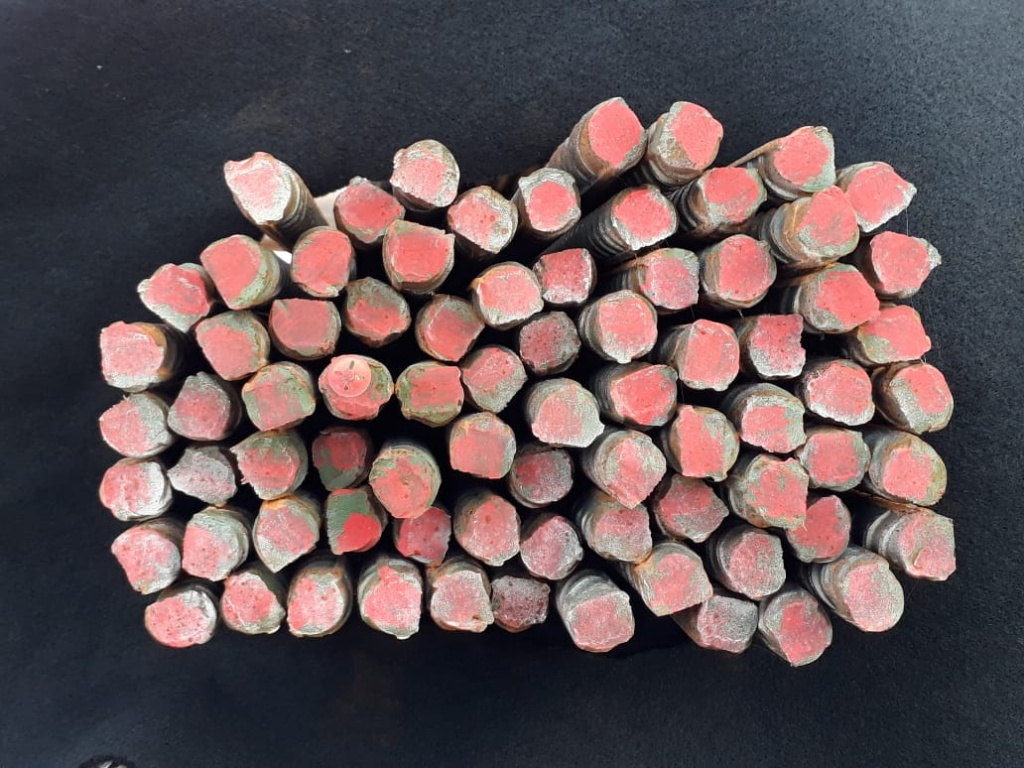dipstick: (653, 95, 724, 176), (135, 261, 210, 334), (222, 150, 292, 226), (202, 234, 272, 309), (195, 310, 271, 379), (875, 436, 948, 507), (801, 263, 877, 331), (771, 119, 837, 195), (584, 91, 645, 173), (677, 405, 741, 483), (636, 553, 714, 617), (599, 435, 669, 506), (98, 320, 169, 390), (316, 354, 390, 421), (392, 137, 459, 210), (867, 230, 942, 295), (460, 343, 528, 414), (786, 494, 853, 566), (743, 456, 809, 529), (518, 163, 582, 238), (769, 593, 832, 669), (659, 474, 728, 543), (449, 187, 519, 255), (111, 528, 182, 595), (456, 494, 521, 567), (847, 163, 917, 230), (450, 414, 517, 484), (565, 590, 636, 656), (242, 366, 314, 431), (854, 303, 931, 363), (594, 293, 660, 363), (805, 363, 876, 428), (533, 387, 606, 450), (332, 176, 402, 241), (100, 395, 170, 460), (99, 460, 172, 522), (361, 569, 422, 642), (844, 561, 904, 635), (890, 365, 955, 433), (396, 360, 465, 424), (370, 449, 433, 519), (614, 363, 681, 428), (709, 236, 778, 299), (346, 275, 409, 344), (256, 503, 317, 574), (611, 186, 676, 252), (221, 574, 287, 639), (418, 298, 487, 360), (474, 266, 545, 326), (685, 317, 741, 393), (800, 185, 858, 258), (588, 497, 653, 562), (895, 514, 958, 581), (143, 591, 217, 648), (170, 446, 238, 508), (802, 431, 872, 491), (236, 433, 299, 499), (724, 531, 786, 598), (385, 222, 454, 282), (269, 298, 340, 356), (696, 166, 769, 222), (522, 514, 583, 581), (292, 229, 350, 298), (170, 374, 230, 440), (323, 488, 381, 556), (741, 393, 806, 453), (639, 248, 702, 309), (428, 574, 494, 632), (749, 314, 806, 381), (490, 574, 551, 635), (514, 444, 574, 506), (181, 520, 243, 579), (287, 573, 345, 636), (699, 595, 760, 654), (519, 313, 581, 371), (392, 508, 452, 567), (311, 429, 364, 489), (536, 247, 591, 301)
